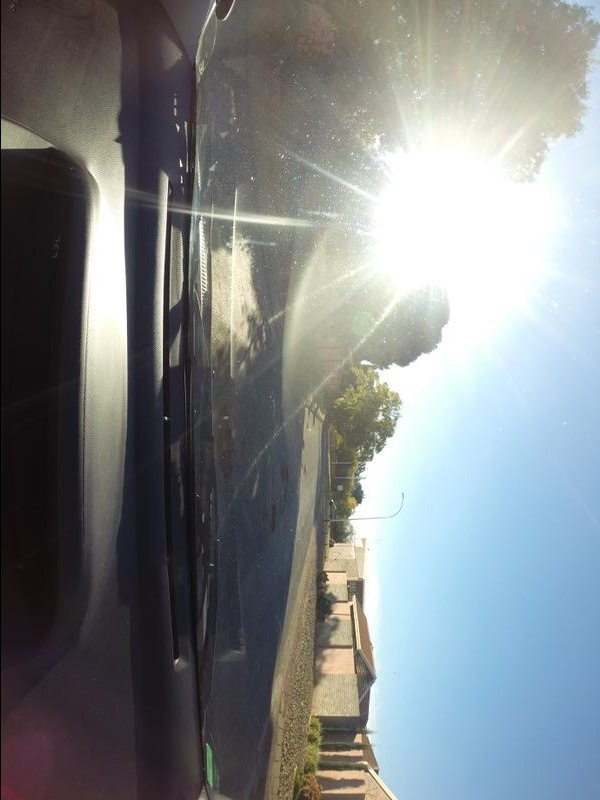pothole: (215, 410, 238, 476), (269, 503, 279, 532), (281, 465, 291, 494), (299, 466, 310, 478), (303, 423, 311, 437)
